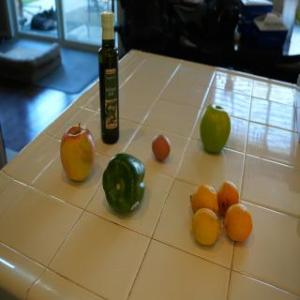bell_pepper: (97, 150, 151, 216)
egg: (150, 133, 172, 163)
